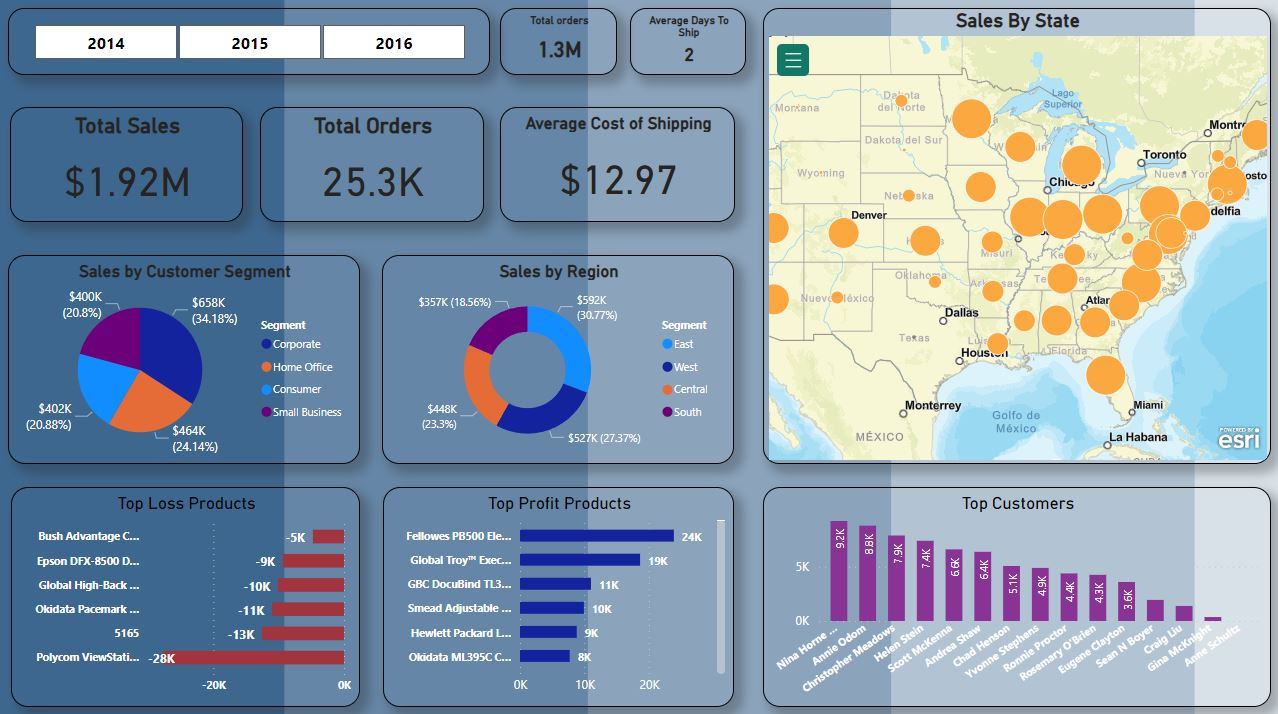

The page's visual inventory and layout, read from the dashboard file:
{"tool":"powerbi","page":{"name":"Page 1","canvas":[1280,720],"ordinal":0},"visuals":[{"type":"card","title":"Total Sales","fields":{"Values":["Orders.Sales"]},"box":[11.2,107,232.9,114.7],"z":0},{"type":"card","title":"Total Orders","fields":{"Values":["Orders.Quantity ordered new"]},"box":[261.3,107,223.4,114.7],"z":1000},{"type":"card","title":"Average Cost of Shipping","fields":{"Values":["Orders.Shipping Cost"]},"box":[501.1,107,234.6,114.7],"z":2000},{"type":"card","title":"Average Days To Ship","fields":{"Values":["Orders.DaysToShip"]},"box":[630.5,7.8,116.4,67.3],"z":3000},{"type":"slicer","fields":{"Values":["Orders.RandomYear"]},"box":[8.6,7.8,482.2,67.3],"z":4000},{"type":"card","title":"Total orders","fields":{"Values":["Returns.Num of Order"]},"box":[501.1,7.8,116.4,67.3],"z":5000},{"type":"esriVisual","title":"Sales By State","fields":{"Location":["Orders.State or Province"],"Size":["Orders.Quantity"]},"box":[764.2,7.8,508,456.3],"z":6000},{"type":"barChart","title":"Top  Loss Products","fields":{"Category":["Orders.Product Name"],"Y":["Orders.Profit"]},"box":[11.7,487.3,349.2,219.8],"z":7000},{"type":"barChart","title":"Top Profit Products","fields":{"Category":["Orders.Product Name"],"Y":["Orders.Profit"]},"box":[384.2,487.3,351.1,219.8],"z":8000},{"type":"pieChart","title":"Sales by Customer Segment","fields":{"Category":["Orders.Customer Segment"],"Y":["Orders.Sales"]},"box":[8.6,255.3,351.9,208.7],"z":9000},{"type":"donutChart","title":"Sales by Region","fields":{"Category":["Orders.Region"],"Y":["Orders.Sales"]},"box":[383,255,352,209],"z":10000},{"type":"columnChart","title":"Top Customers","fields":{"Category":["Orders.Customer Name"],"Y":["Orders.Profit"]},"box":[764.5,487.3,507.7,219.8],"z":11000}]}

Visuals, with their boxes in screenshot pixels (x1, y1, x2, y2), scaled from the page's 1280x720 canvas onto the 1278x714 screenshot:
"Total Sales" card: locate(11, 106, 244, 220)
"Total Orders" card: locate(261, 106, 484, 220)
"Average Cost of Shipping" card: locate(500, 106, 735, 220)
"Average Days To Ship" card: locate(630, 8, 746, 74)
slicer - Orders.RandomYear: locate(9, 8, 490, 74)
"Total orders" card: locate(500, 8, 617, 74)
"Sales By State" esriVisual: locate(763, 8, 1270, 460)
"Top  Loss Products" barChart: locate(12, 483, 360, 701)
"Top Profit Products" barChart: locate(384, 483, 734, 701)
"Sales by Customer Segment" pieChart: locate(9, 253, 360, 460)
"Sales by Region" donutChart: locate(382, 253, 734, 460)
"Top Customers" columnChart: locate(763, 483, 1270, 701)
